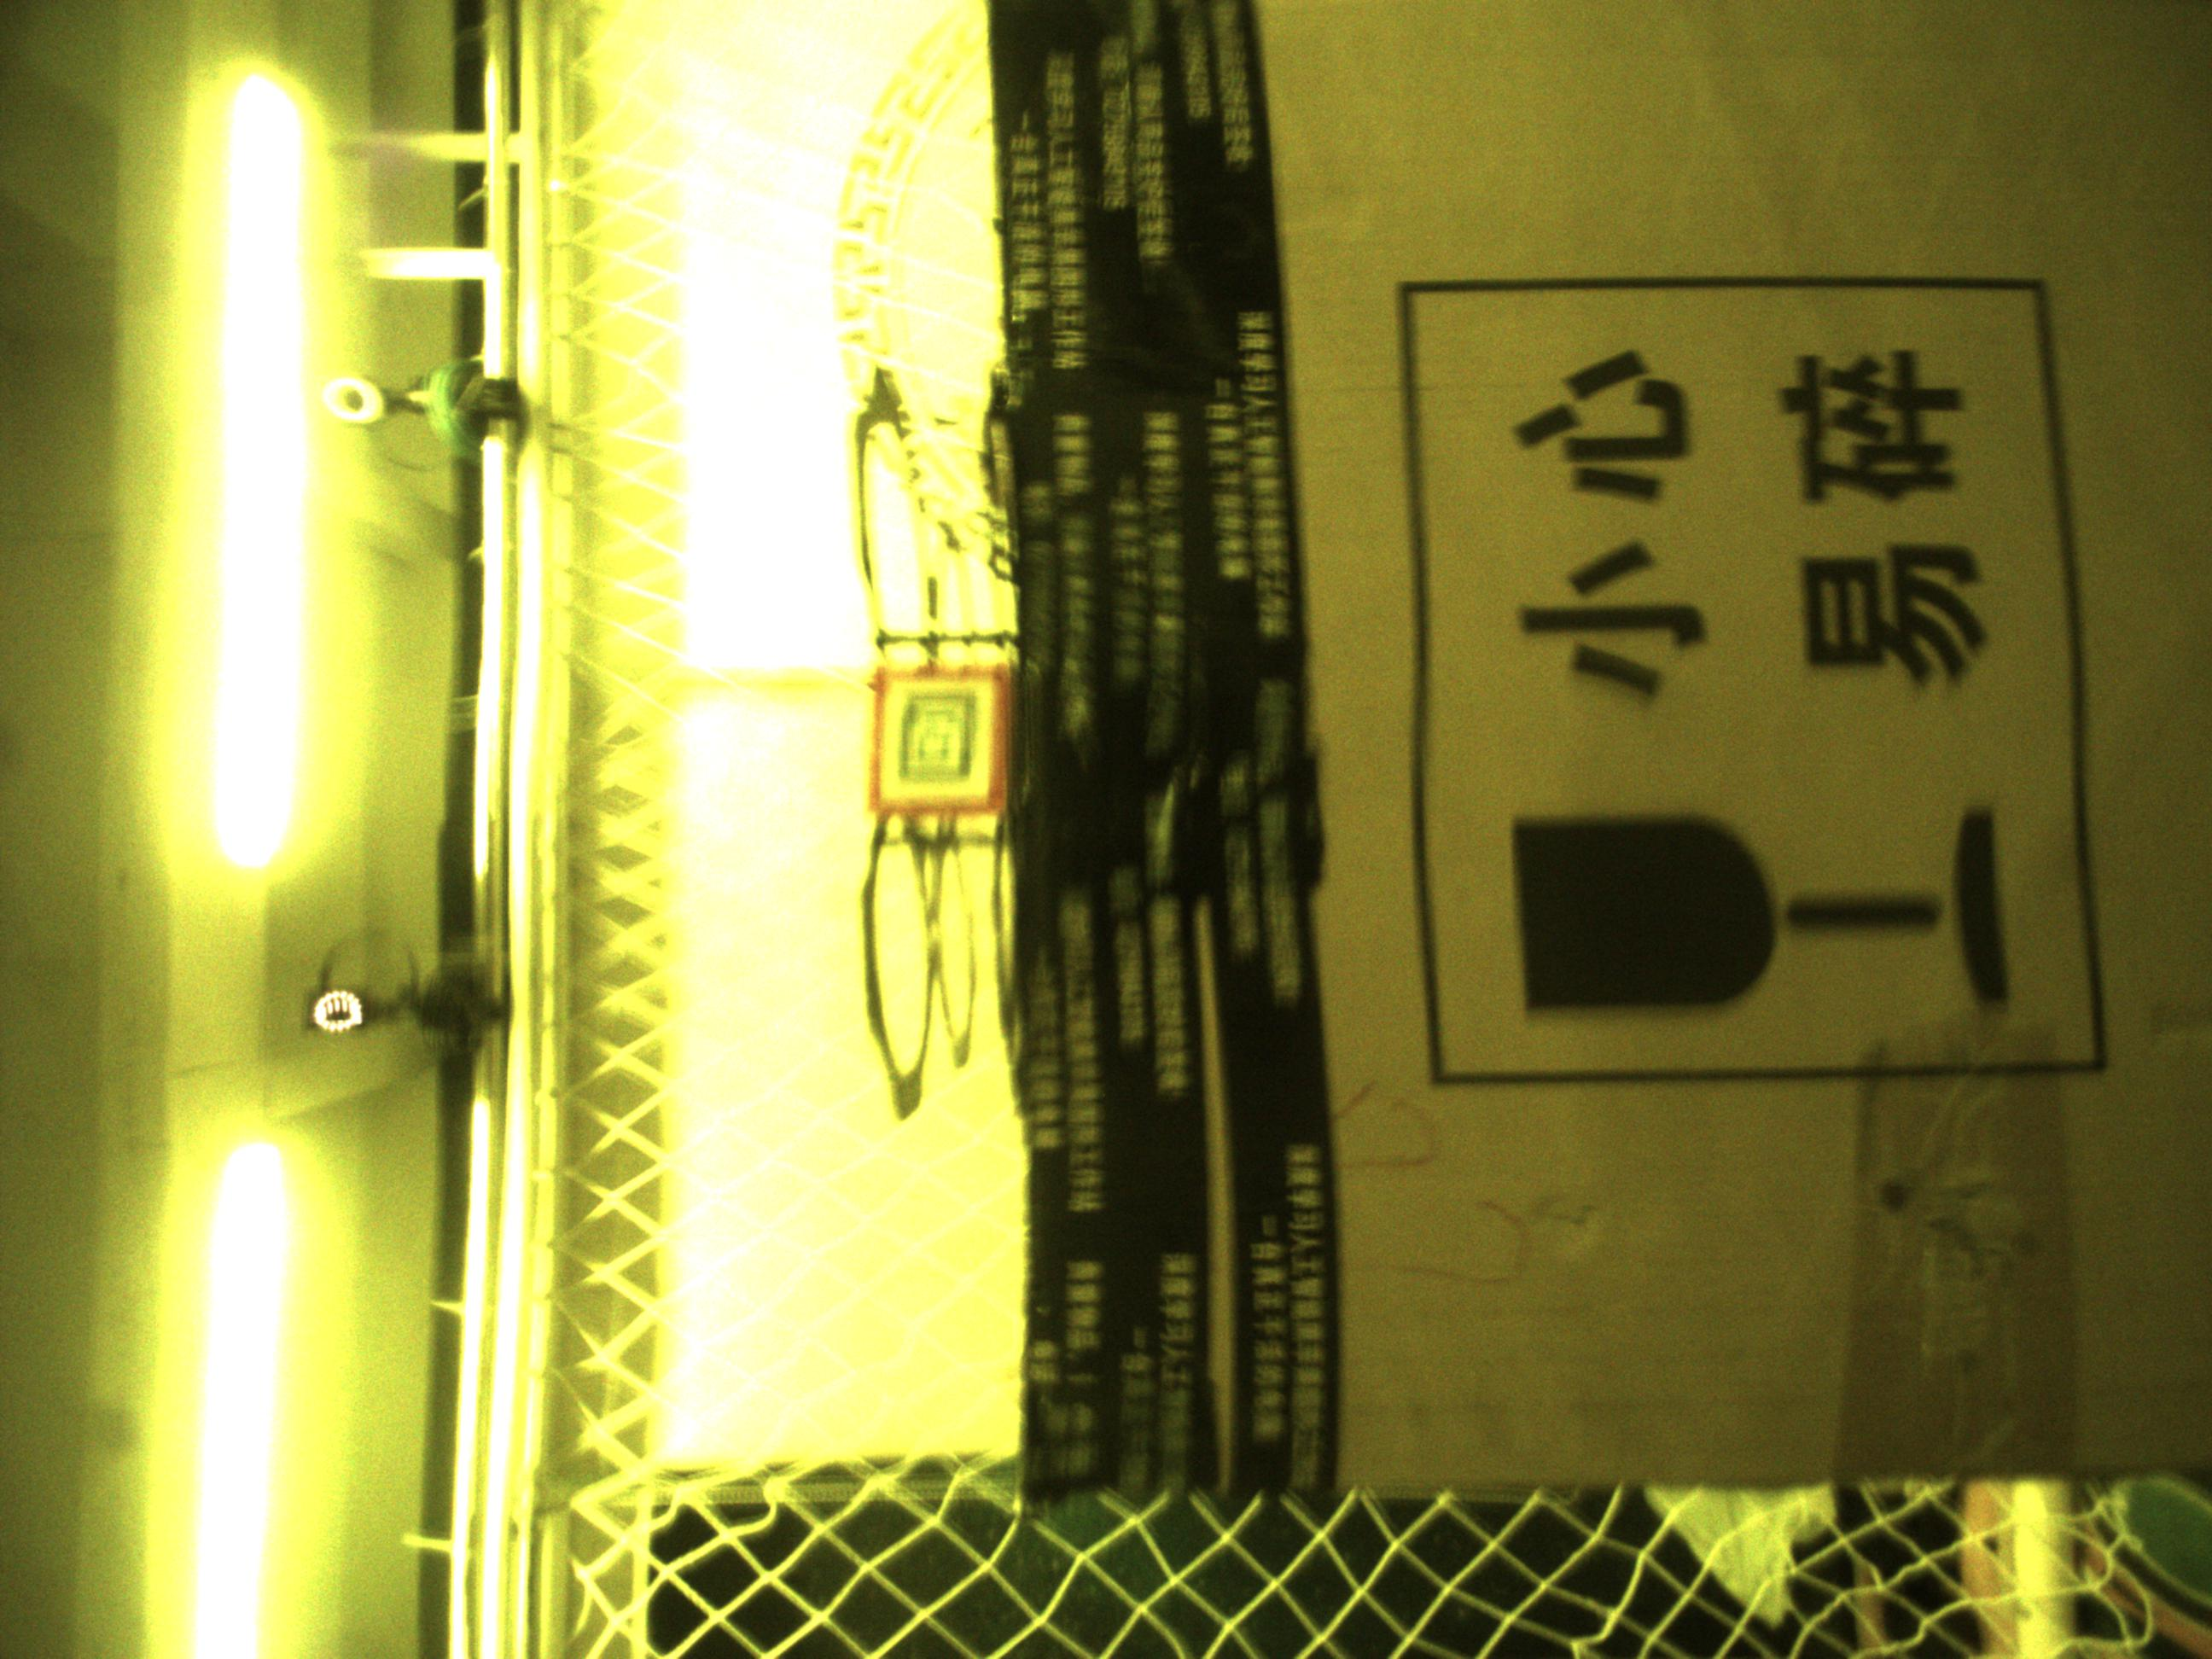outline: (869, 670, 1010, 812)
